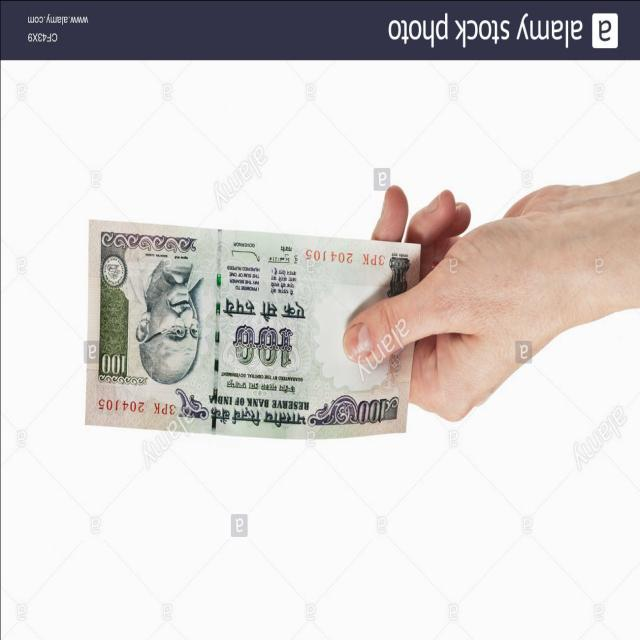100IndianRupees: (86, 220, 424, 437)
